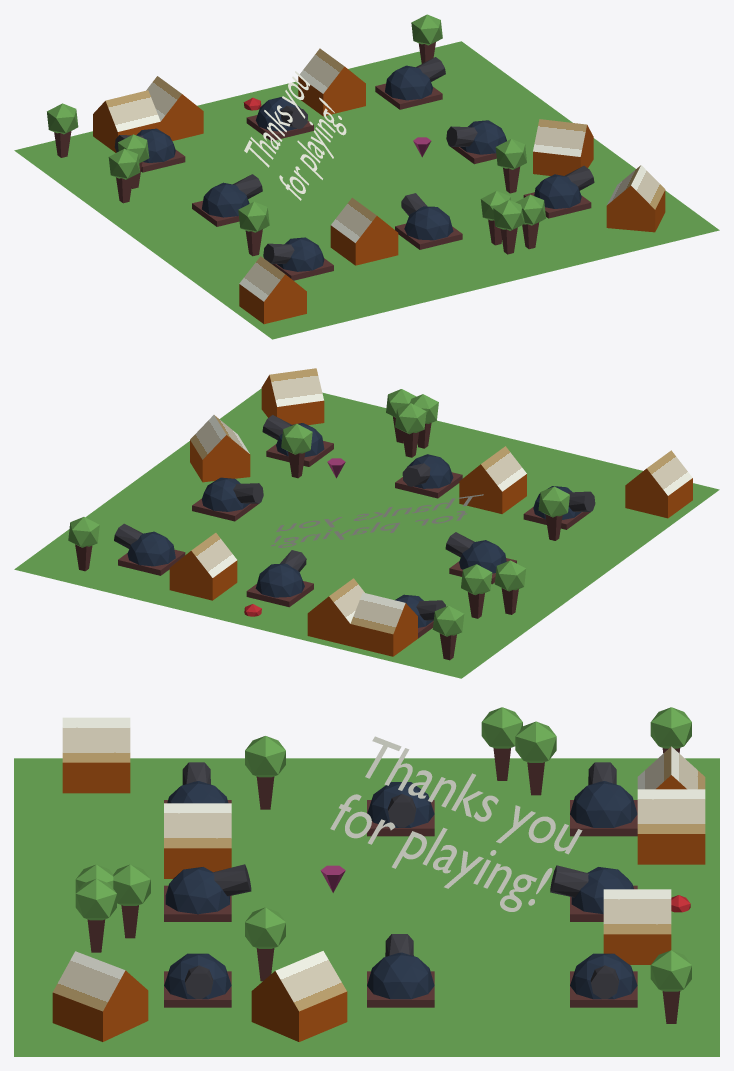
File: end.gltf
3 renders of one model, top to bottom at view 1: azimuth 30°, elevation 25°; view 2: azimuth 150°, elevation 25°; view 3: azimuth 270°, elevation 25°, orthographic. The views are drawn at different scales.
Parts seen in each view (by area): view 1: Plane, Cube.006, Cube.002, Cube, Cube.004, Cube.003, Cube.001, canon.004, canon.003, Cube.005, Text, canon.001 (+14 smaller); view 2: Plane, Cube.001, Cube, Cube.002, Cube.006, Cube.004, Cube.003, Cube.005, canon.004, canonaa, canon.006, canon.003 (+14 smaller); view 3: Plane, Text, Cube.004, Cube.003, Cube.002, Cube.005, Cube, Cube.006, canon.003, canon.005, canon.006, canon.001 (+14 smaller).
Boxes of the visible parts, x1,y1,x2,y2 form: Plane: (14, 41, 719, 339); Cube.006: (330, 197, 398, 265); Cube.002: (239, 256, 306, 324); Cube: (298, 48, 365, 116); Cube.004: (606, 165, 665, 232); Cube.003: (533, 119, 593, 175); Cube.001: (93, 90, 160, 152); canon.004: (375, 57, 445, 109); canon.003: (395, 193, 462, 249); Cube.005: (146, 76, 203, 140); Text: (244, 71, 346, 200); canon.001: (523, 165, 594, 218); Plane: (14, 388, 719, 678); Cube.001: (350, 592, 417, 656); Cube: (169, 533, 237, 600); Cube.002: (625, 450, 692, 518); Cube.006: (459, 446, 526, 513); Cube.004: (261, 368, 324, 425); Cube.003: (190, 415, 250, 482); Cube.005: (307, 578, 364, 646); canon.004: (114, 523, 185, 575); canonaa: (246, 550, 313, 607); canon.006: (192, 477, 263, 521); canon.003: (395, 454, 462, 498); Plane: (14, 758, 719, 1056); Text: (330, 736, 582, 911); Cube.004: (52, 951, 148, 1041); Cube.003: (251, 951, 347, 1041); Cube.002: (62, 717, 130, 793); Cube.005: (637, 789, 705, 864); Cube: (603, 889, 671, 964); Cube.006: (164, 803, 231, 878); canon.003: (164, 864, 251, 921); canon.005: (570, 762, 637, 836); canon.006: (367, 934, 434, 1007); canon.001: (164, 953, 231, 1007).
Size of the model in its own units: 20.87 by 3.73 by 20.87.
1 material, 1 textured.
